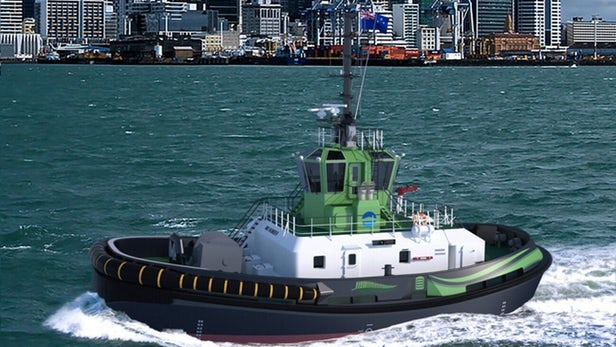otherboat: (87, 11, 551, 337)
